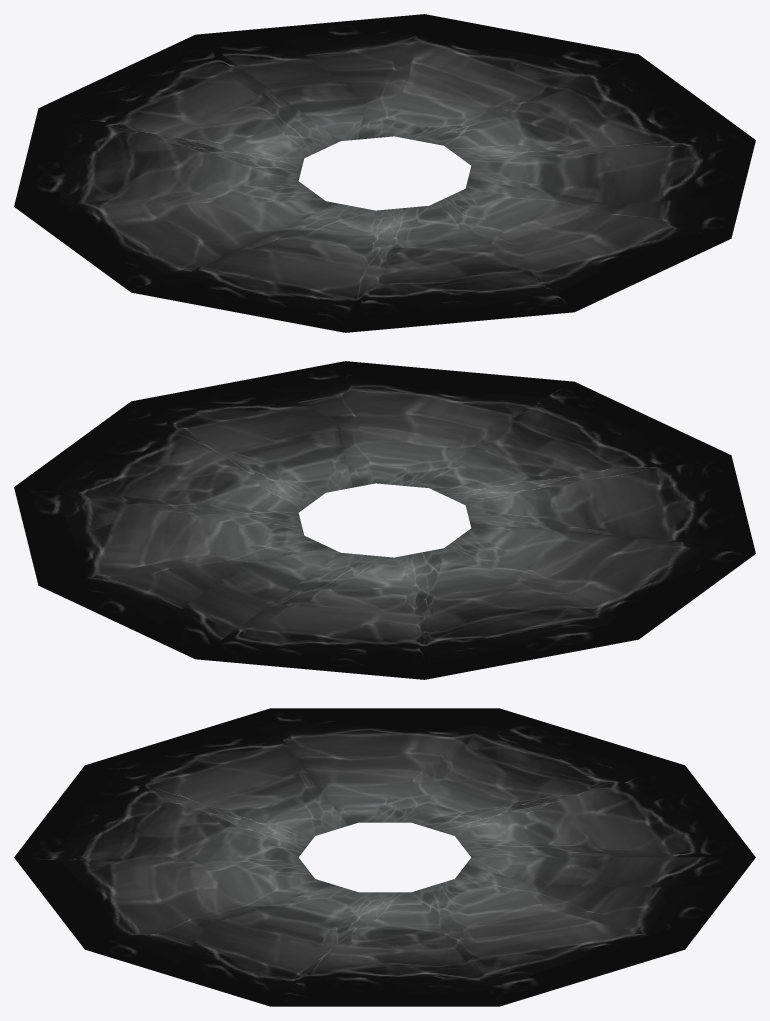
File: circlewake.fbx
3 views of the same model, one above another, from view 1: azimuth 30°, elevation 25°; view 2: azimuth 150°, elevation 25°; view 3: azimuth 270°, elevation 25° (orthographic). The views are drawn at different scales.
Visible parts, largest first — view 1: obj0.080; view 2: obj0.080; view 3: obj0.080.
Part boxes in pixels (x1,y1,x2,y2): obj0.080: (14,14,755,332); obj0.080: (14,361,755,679); obj0.080: (14,708,755,1006).
Size of the model in its own units: 3.94 by 7.16e-07 by 4.14.
